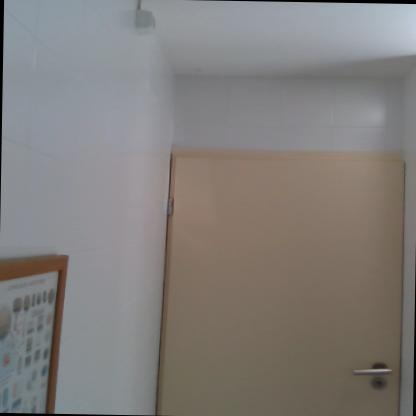closed: (143, 124, 416, 416)
